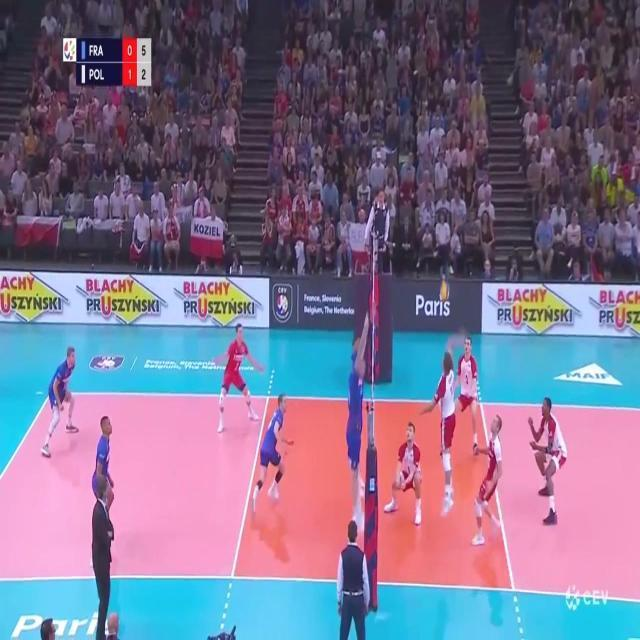volleyball: (440, 279, 450, 301)
